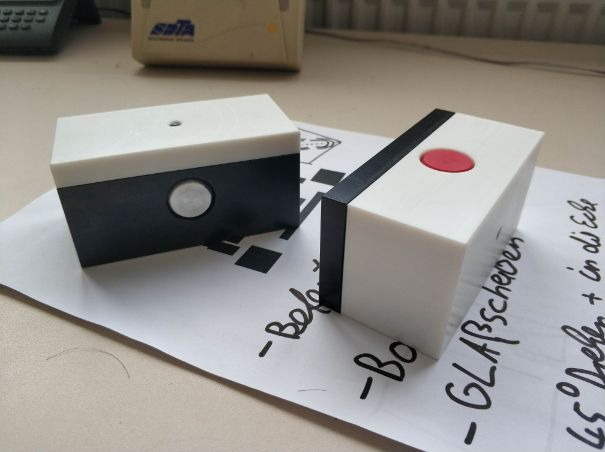black+white+red: (317, 105, 547, 366)
white+black+silver: (48, 93, 304, 270)
